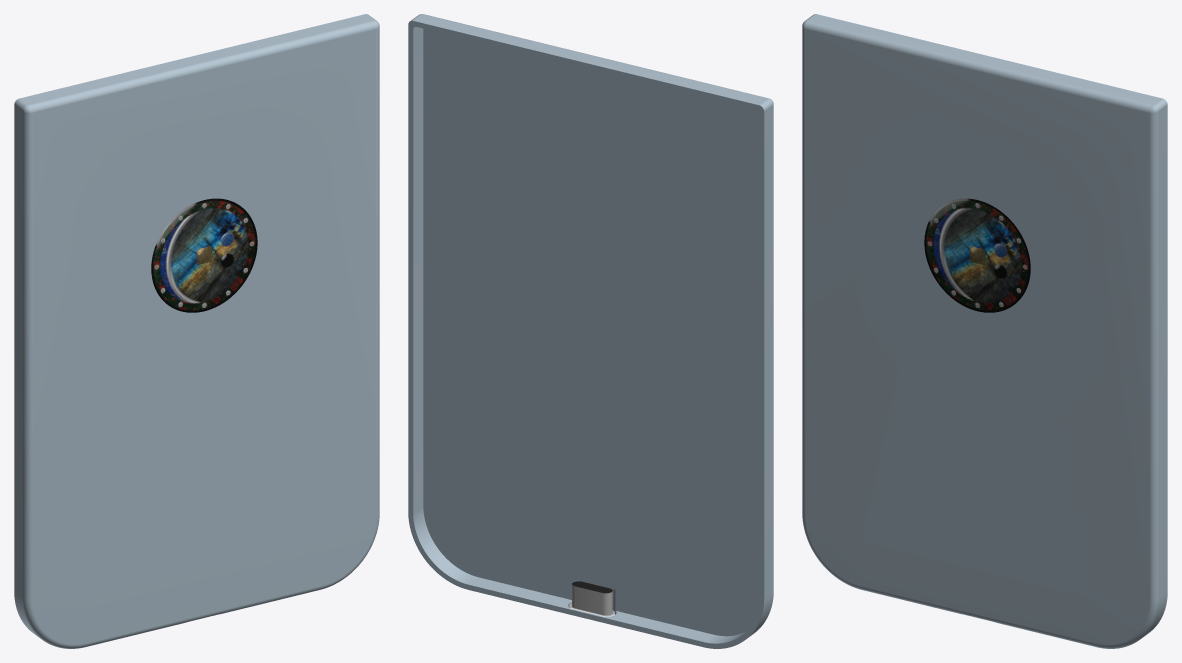
The model's file is glacier-standard-shield.glb.
The picture shows the model from 3 angles, left to right: view 1: azimuth 30°, elevation 25°; view 2: azimuth 150°, elevation 25°; view 3: azimuth 330°, elevation 25°; orthographic projection.
Visible parts, largest first — view 1: shield housing, shield window_inserts, inlay; view 2: shield housing, shield window_inserts, shield USB-C; view 3: shield housing, shield window_inserts, inlay.
Boxes of the visible parts, left/top/right/bottom form: shield housing: left=14, top=14, right=379, bottom=648; shield window_inserts: left=89, top=131, right=319, bottom=643; inlay: left=151, top=198, right=257, bottom=312; shield housing: left=408, top=14, right=773, bottom=648; shield window_inserts: left=481, top=122, right=711, bottom=638; shield USB-C: left=569, top=581, right=614, bottom=616; shield housing: left=802, top=14, right=1167, bottom=648; shield window_inserts: left=862, top=131, right=1092, bottom=643; inlay: left=924, top=198, right=1030, bottom=312.
Size of the model in its own units: 0.071 by 0.1059 by 0.00422.
Materials: 5 (1 with a texture image).
